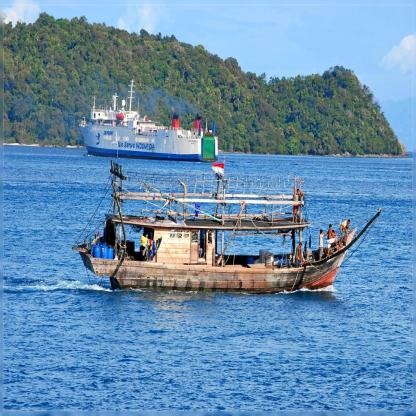cargo ship: (78, 99, 226, 161)
fishing boat: (74, 186, 367, 299)
